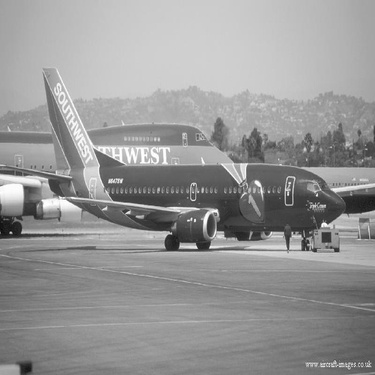airplane: (20, 47, 359, 277), (1, 117, 237, 238)
